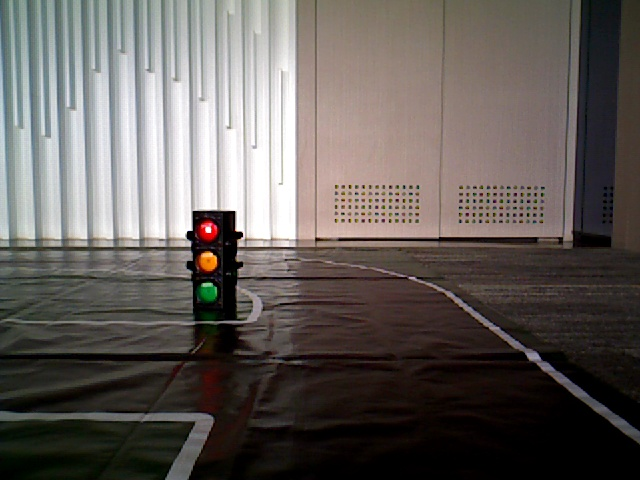red: (194, 212, 225, 306)
